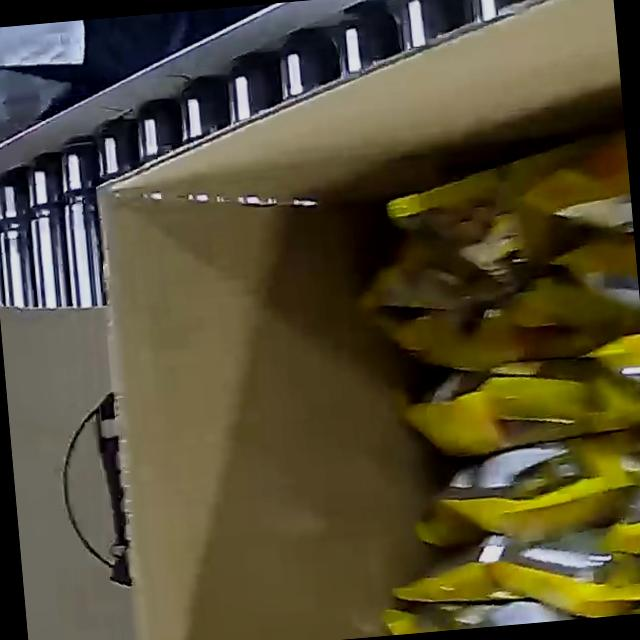salted: (332, 90, 640, 636)
